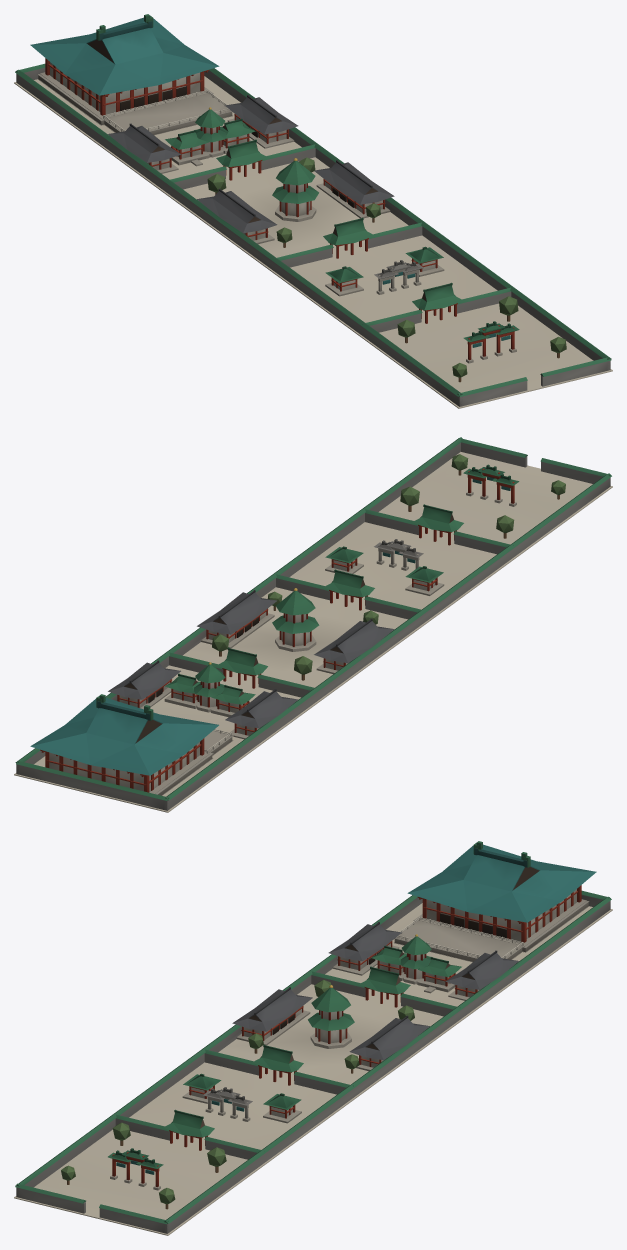
The model's file is great-mosque.glb.
3 renders of one model, top to bottom at view 1: azimuth 30°, elevation 25°; view 2: azimuth 150°, elevation 25°; view 3: azimuth 330°, elevation 25°, orthographic.
Parts seen in each view (by area): view 1: p0_prayer, p2_trees, p1_halls; view 2: p0_prayer, p2_trees, p1_halls; view 3: p0_prayer, p2_trees, p1_halls.
Part boxes in pixels (left/top/right/bottom): p0_prayer: left=14, top=63, right=612, bottom=408; p2_trees: left=30, top=14, right=566, bottom=382; p1_halls: left=40, top=58, right=519, bottom=363; p0_prayer: left=14, top=437, right=612, bottom=812; p2_trees: left=30, top=454, right=565, bottom=775; p1_halls: left=40, top=464, right=519, bottom=793; p0_prayer: left=14, top=890, right=612, bottom=1235; p2_trees: left=61, top=841, right=596, bottom=1209; p1_halls: left=108, top=885, right=586, bottom=1190.
Bounding box in the file's own units: 50.01 × 21.37 × 250.
